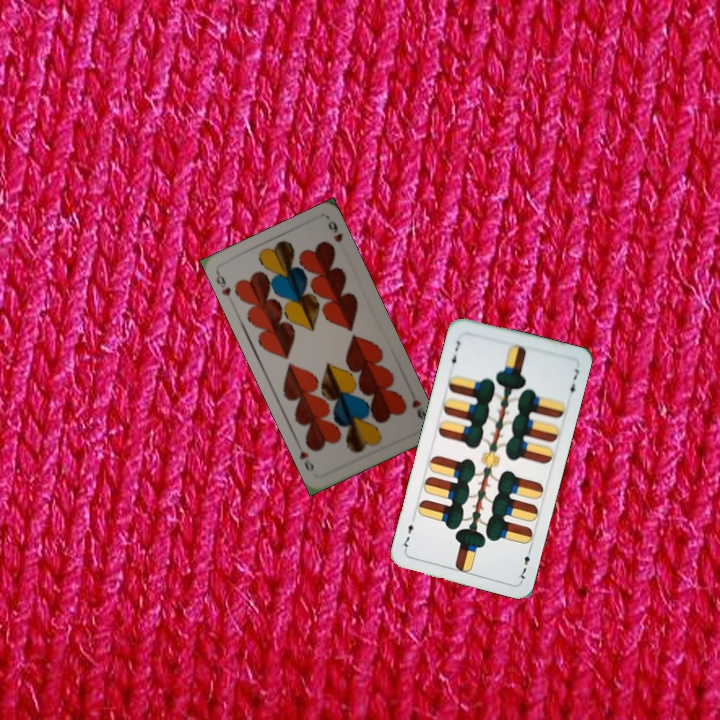E7: (515, 543, 534, 583), (446, 337, 463, 370)
H9: (212, 268, 234, 299), (408, 396, 429, 423)
